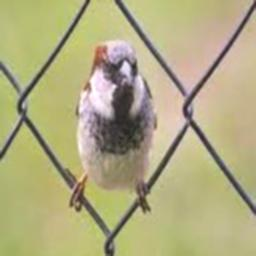Sparrow: (75, 39, 156, 195)
